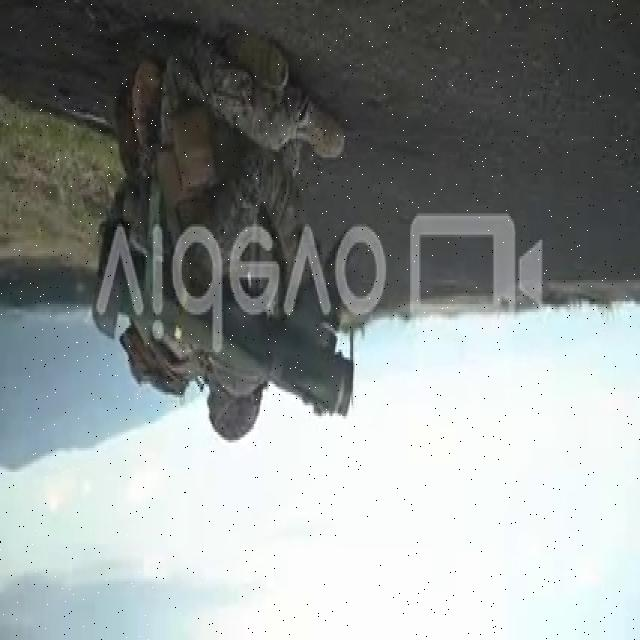bazooka: (97, 213, 361, 432)
